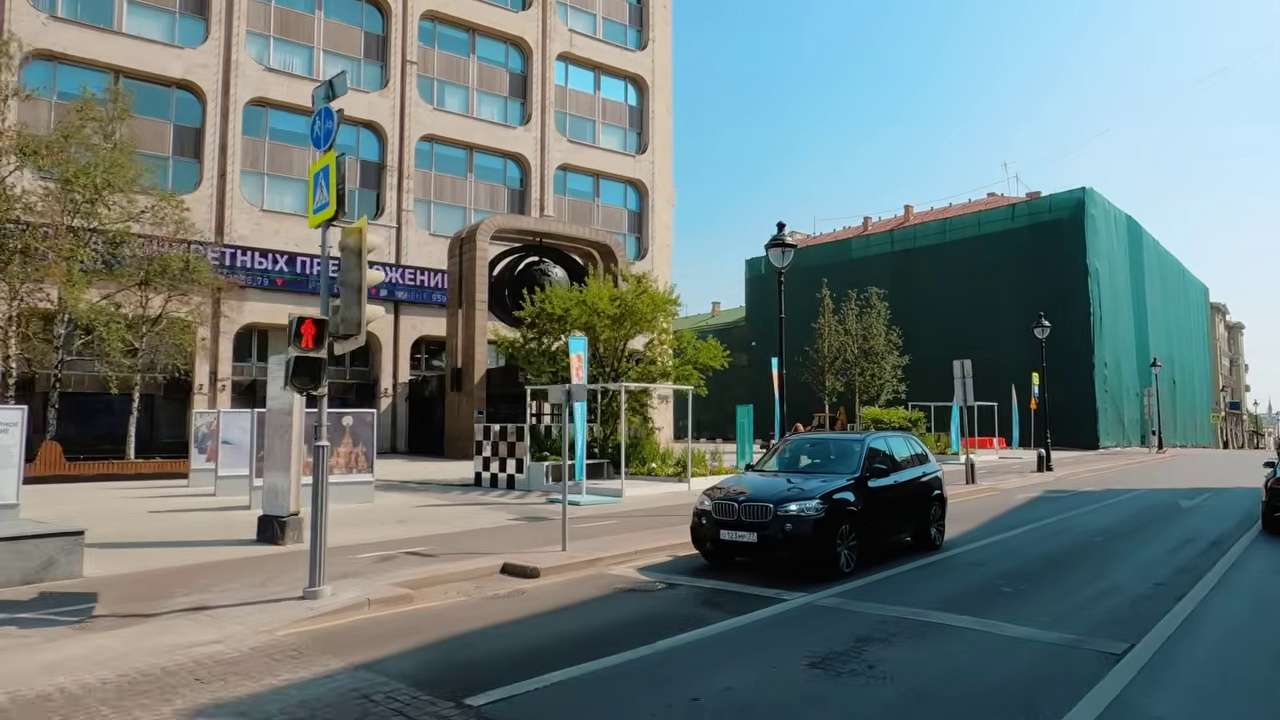apagada: (765, 226, 793, 275)
